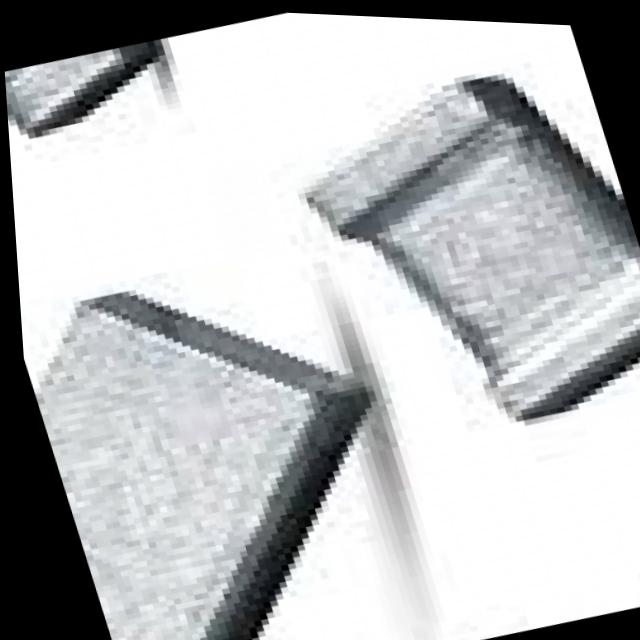metal-plates: (27, 281, 374, 640)
